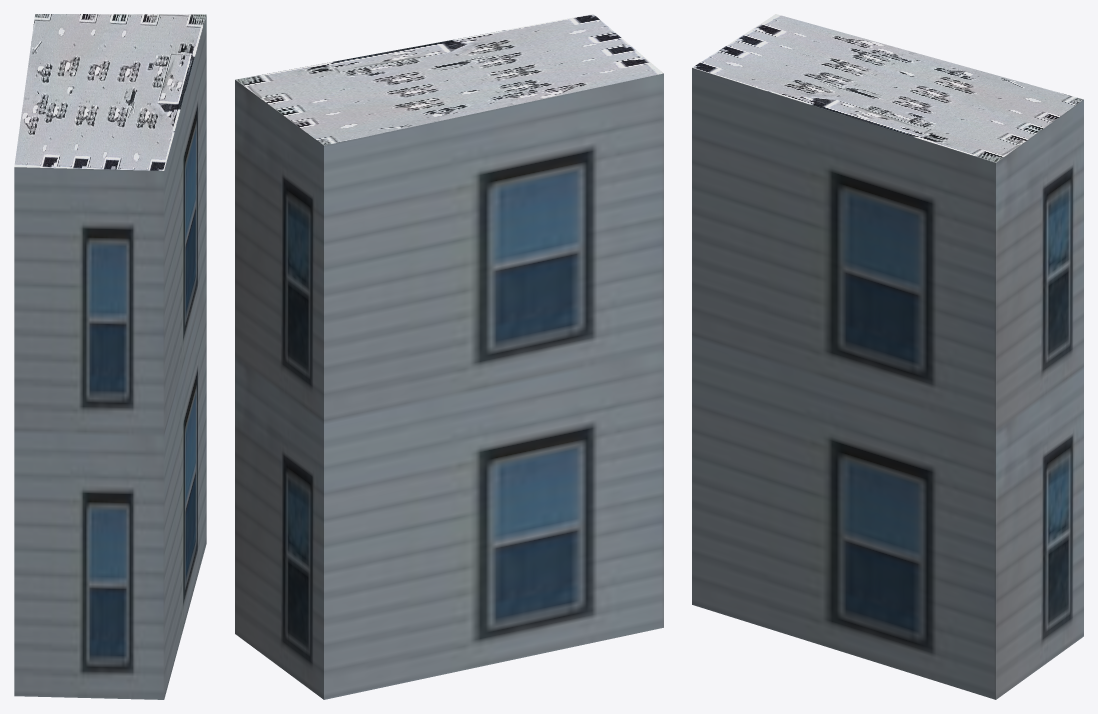
The model's file is ResTex__738.fbx.
3 renders of one model, left to right at view 1: azimuth 30°, elevation 25°; view 2: azimuth 150°, elevation 25°; view 3: azimuth 270°, elevation 25°, orthographic. The views are drawn at different scales.
Parts seen in each view (by area): view 1: CityEngineMaterial_18_m, CityEngineMaterial_4_m; view 2: CityEngineMaterial_18_m, CityEngineMaterial_4_m; view 3: CityEngineMaterial_18_m, CityEngineMaterial_4_m.
Part boxes in pixels (left/top/right/bottom): CityEngineMaterial_18_m: left=14, top=15, right=206, bottom=699; CityEngineMaterial_4_m: left=14, top=14, right=206, bottom=170; CityEngineMaterial_18_m: left=235, top=73, right=663, bottom=699; CityEngineMaterial_4_m: left=235, top=14, right=663, bottom=145; CityEngineMaterial_18_m: left=692, top=68, right=1083, bottom=699; CityEngineMaterial_4_m: left=692, top=14, right=1083, bottom=162.
Bounding box in the file's own units: 3.57 × 6 × 3.97.
2 materials, 2 textured.
